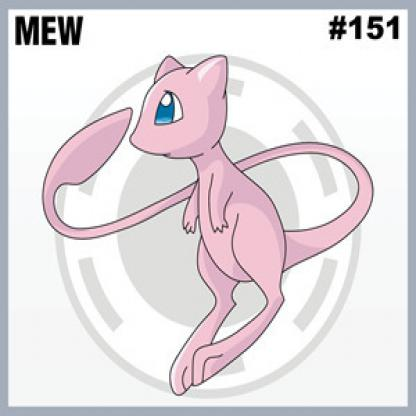Mew: (48, 56, 384, 416)
